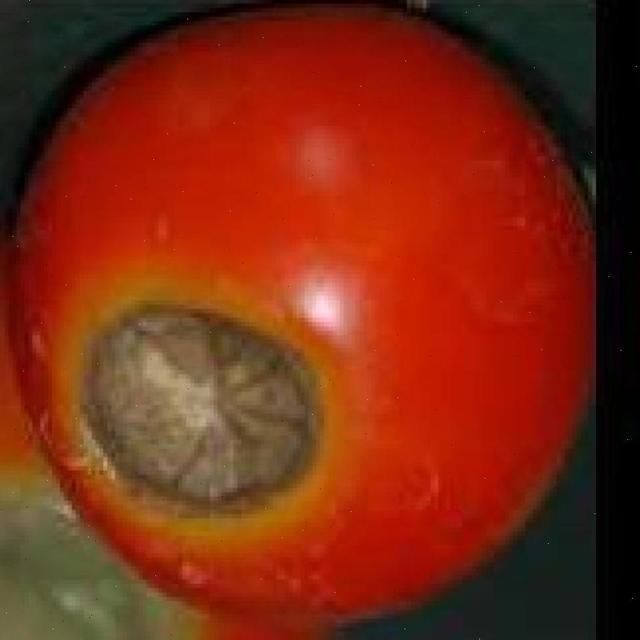Blossom End Rot Fruit: (50, 200, 227, 351)
